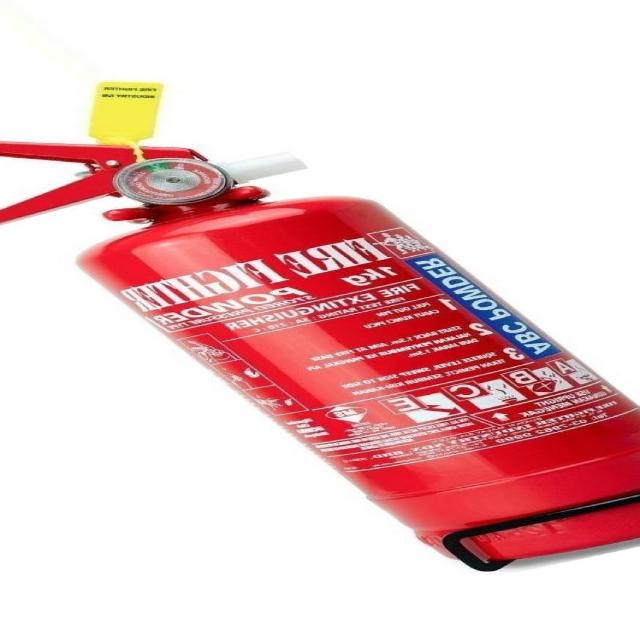fire_extinguisher: (0, 77, 635, 569)
